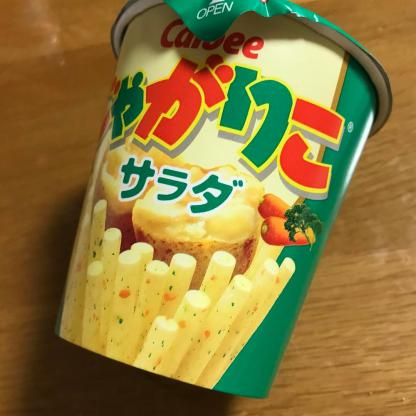potatochip: (55, 0, 393, 402)
